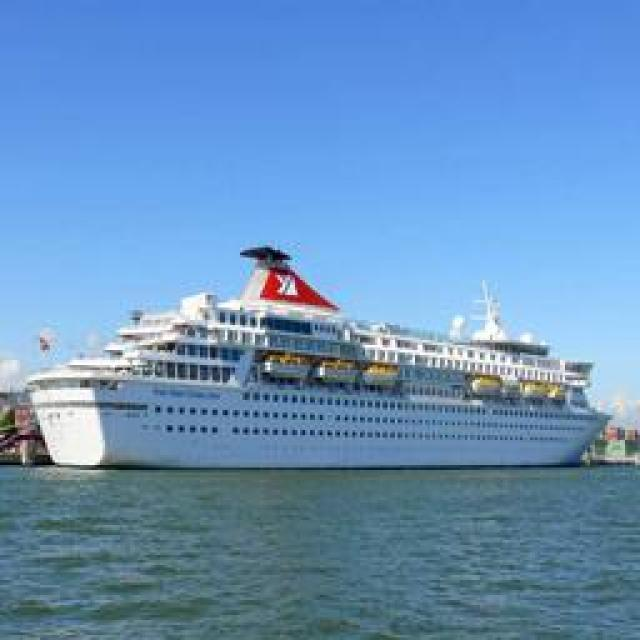ship2: (26, 247, 613, 473)
